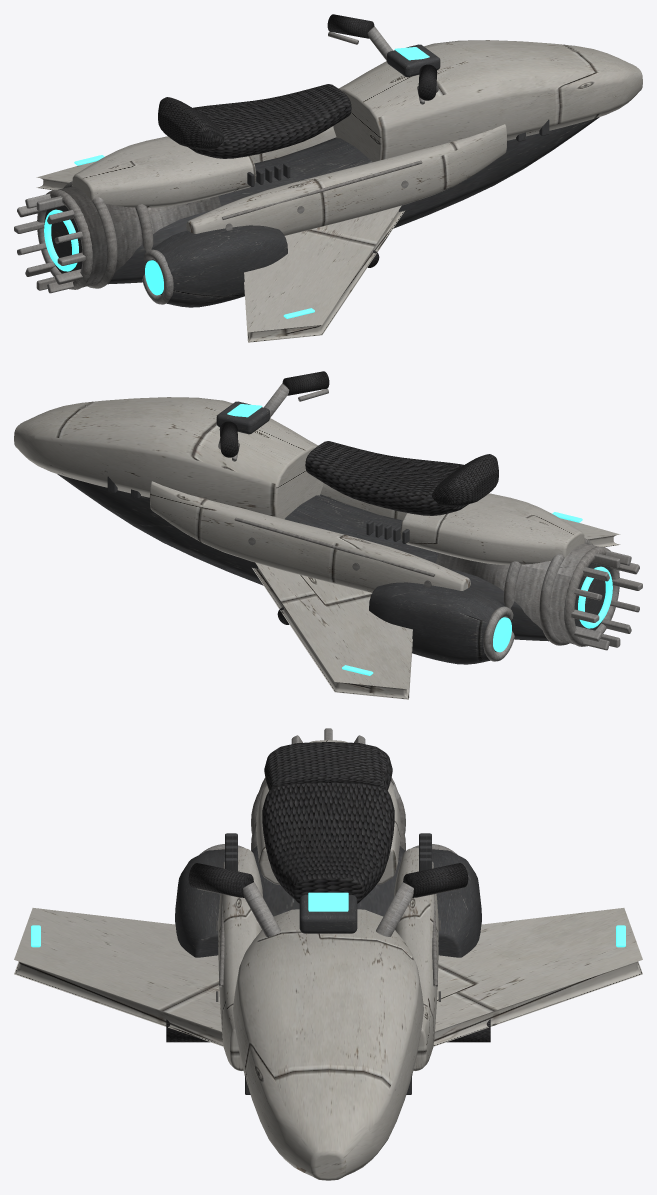
File: HoverBike_MML_Body.glb
3 renders of one model, top to bottom at view 1: azimuth 30°, elevation 25°; view 2: azimuth 150°, elevation 25°; view 3: azimuth 270°, elevation 25°, orthographic. The views are drawn at different scales.
Visible parts, largest first — view 1: SM_Boneyard_HoverBike; view 2: SM_Boneyard_HoverBike; view 3: SM_Boneyard_HoverBike.
Part boxes in pixels (bbox=[...]): SM_Boneyard_HoverBike: bbox=[14, 14, 642, 342]; SM_Boneyard_HoverBike: bbox=[14, 371, 642, 699]; SM_Boneyard_HoverBike: bbox=[14, 728, 642, 1180].
Size of the model in its own units: 3.35 by 1 by 2.17.
4 materials, 3 textured.
